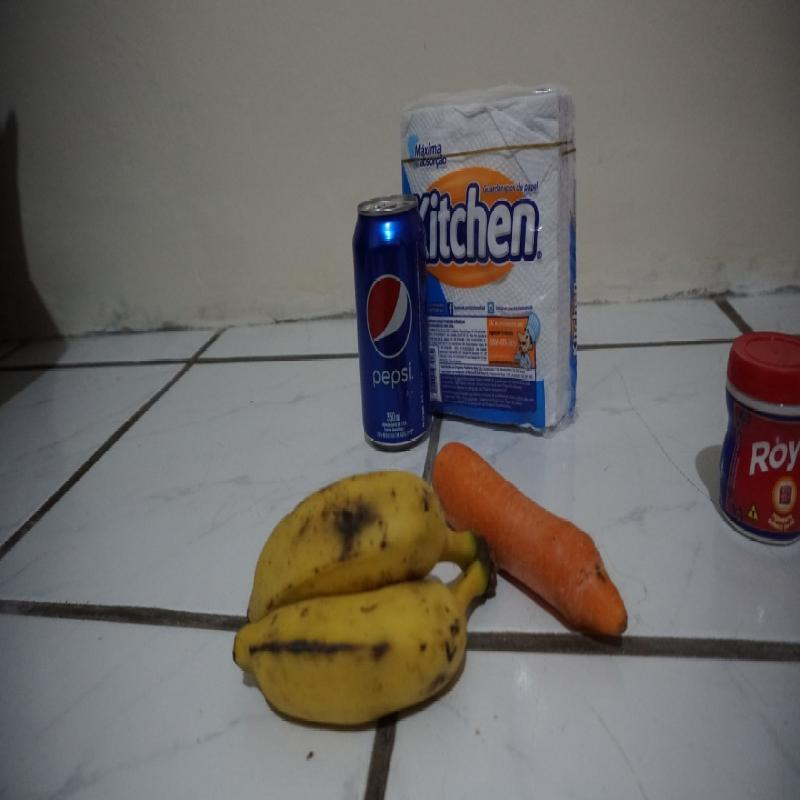Banana: (240, 467, 487, 736)
Carrot: (493, 461, 627, 669)
Napkin: (440, 89, 580, 427)
Soda can: (350, 198, 432, 444)
Yeast: (722, 333, 800, 554)
